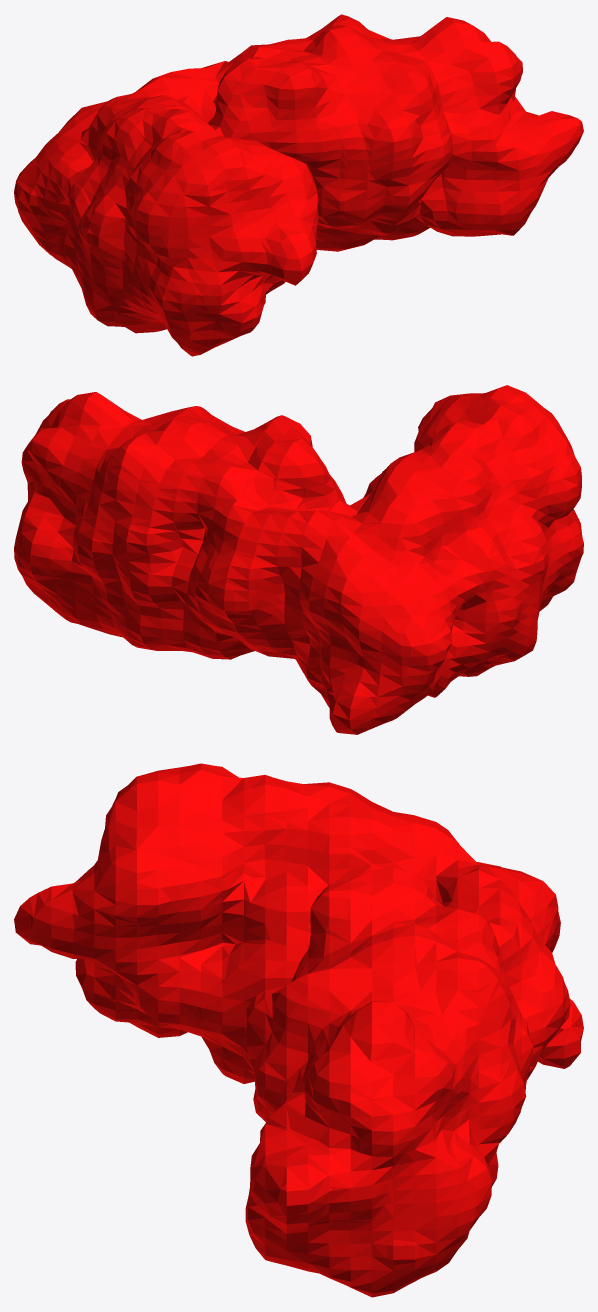
Rendered from hypE_coarse.dae.
3 renders of one model, top to bottom at view 1: azimuth 30°, elevation 25°; view 2: azimuth 150°, elevation 25°; view 3: azimuth 270°, elevation 25°, orthographic. The views are drawn at different scales.
Parts seen in each view (by area): view 1: hypE; view 2: hypE; view 3: hypE.
Part boxes in pixels (<box>): hypE: <box>14,14,583,356</box>; hypE: <box>14,385,583,734</box>; hypE: <box>14,763,583,1297</box>.
Size of the model in its own units: 130 by 61.74 by 98.62.
